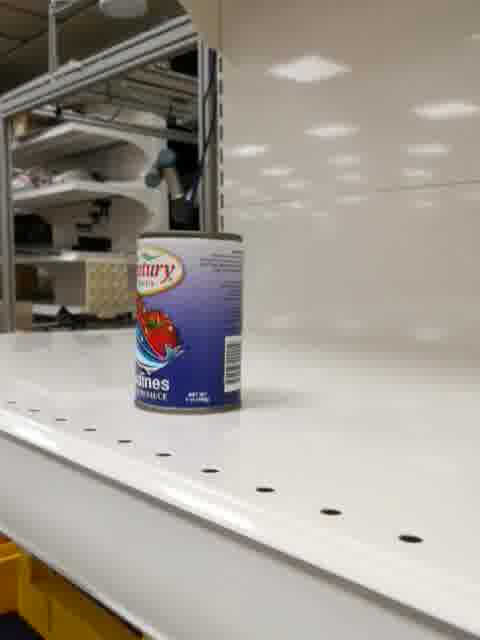sardine: (133, 229, 246, 416)
